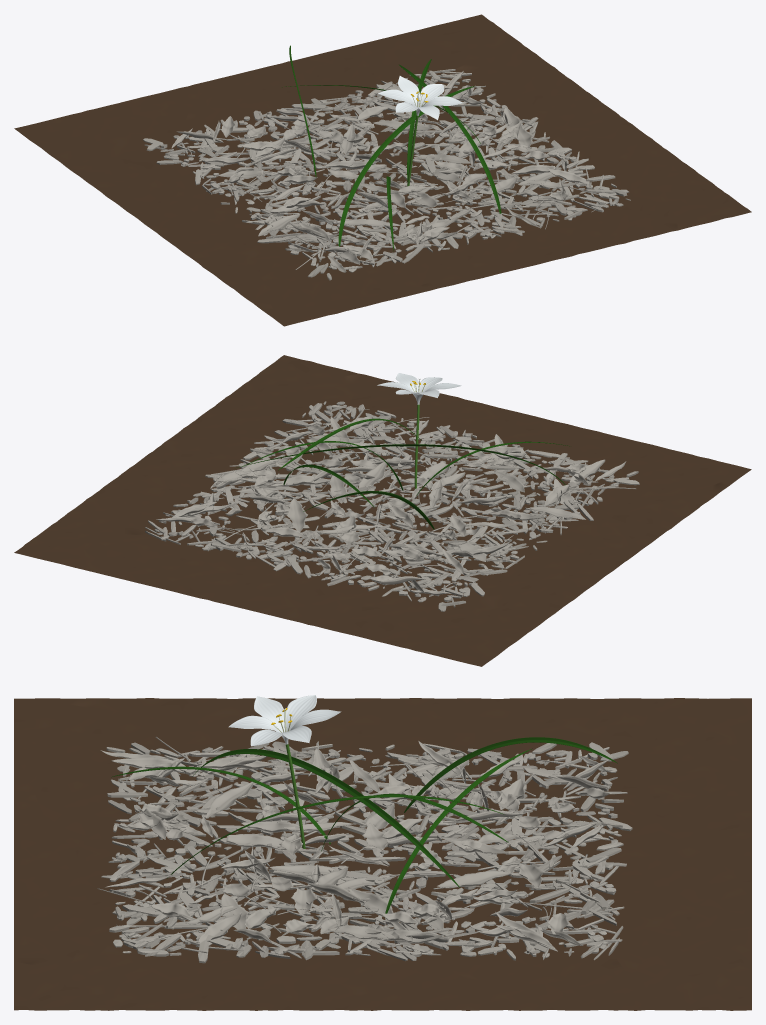
3 renders of one model, top to bottom at view 1: azimuth 30°, elevation 25°; view 2: azimuth 150°, elevation 25°; view 3: azimuth 270°, elevation 25°, orthographic. The views are drawn at different scales.
Visible parts, largest first — view 1: Substrate | continuous uneven brown ground.001, Mulch | 1320 irregular split wood chips.001, Leaf_03 | arching narrow green strap.001, Leaf_04 | arching narrow green strap.001; view 2: Substrate | continuous uneven brown ground.001, Mulch | 1320 irregular split wood chips.001, Leaf_03 | arching narrow green strap.001; view 3: Substrate | continuous uneven brown ground.001, Mulch | 1320 irregular split wood chips.001, Leaf_03 | arching narrow green strap.001, Leaf_07 | arching narrow green strap.001, Leaf_09 | arching narrow green strap.001, Leaf_04 | arching narrow green strap.001, Leaf_06 | arching narrow green strap.001, Litter_018 | curled dry leaf fragment.001, Tepal_05 | outer whorl • lanceolate.001, Litter_029 | curled dry leaf fragment.001, Tepal_06 | inner whorl • lanceolate.001, Litter_044 | curled dry leaf fragment.001 (+5 smaller).
Boxes of the visible parts, box(x1,y1,x2,y2) form: Substrate | continuous uneven brown ground.001: box(14, 14, 751, 326); Mulch | 1320 irregular split wood chips.001: box(143, 69, 630, 280); Leaf_03 | arching narrow green strap.001: box(338, 86, 474, 246); Leaf_04 | arching narrow green strap.001: box(399, 64, 501, 213); Substrate | continuous uneven brown ground.001: box(14, 355, 751, 666); Mulch | 1320 irregular split wood chips.001: box(145, 401, 639, 611); Leaf_03 | arching narrow green strap.001: box(236, 444, 565, 485); Substrate | continuous uneven brown ground.001: box(14, 698, 751, 1010); Mulch | 1320 irregular split wood chips.001: box(101, 741, 632, 963); Leaf_03 | arching narrow green strap.001: box(192, 749, 459, 887); Leaf_07 | arching narrow green strap.001: box(404, 737, 617, 812); Leaf_09 | arching narrow green strap.001: box(384, 748, 532, 917); Leaf_04 | arching narrow green strap.001: box(167, 795, 504, 878); Leaf_06 | arching narrow green strap.001: box(111, 766, 330, 844); Litter_018 | curled dry leaf fragment.001: box(437, 870, 511, 888); Tepal_05 | outer whorl • lanceolate.001: box(254, 696, 284, 732); Litter_029 | curled dry leaf fragment.001: box(226, 833, 286, 849); Tepal_06 | inner whorl • lanceolate.001: box(285, 695, 316, 731); Litter_044 | curled dry leaf fragment.001: box(206, 782, 253, 818).
Size of the model in its own units: 0.38 by 0.0839 by 0.38.
